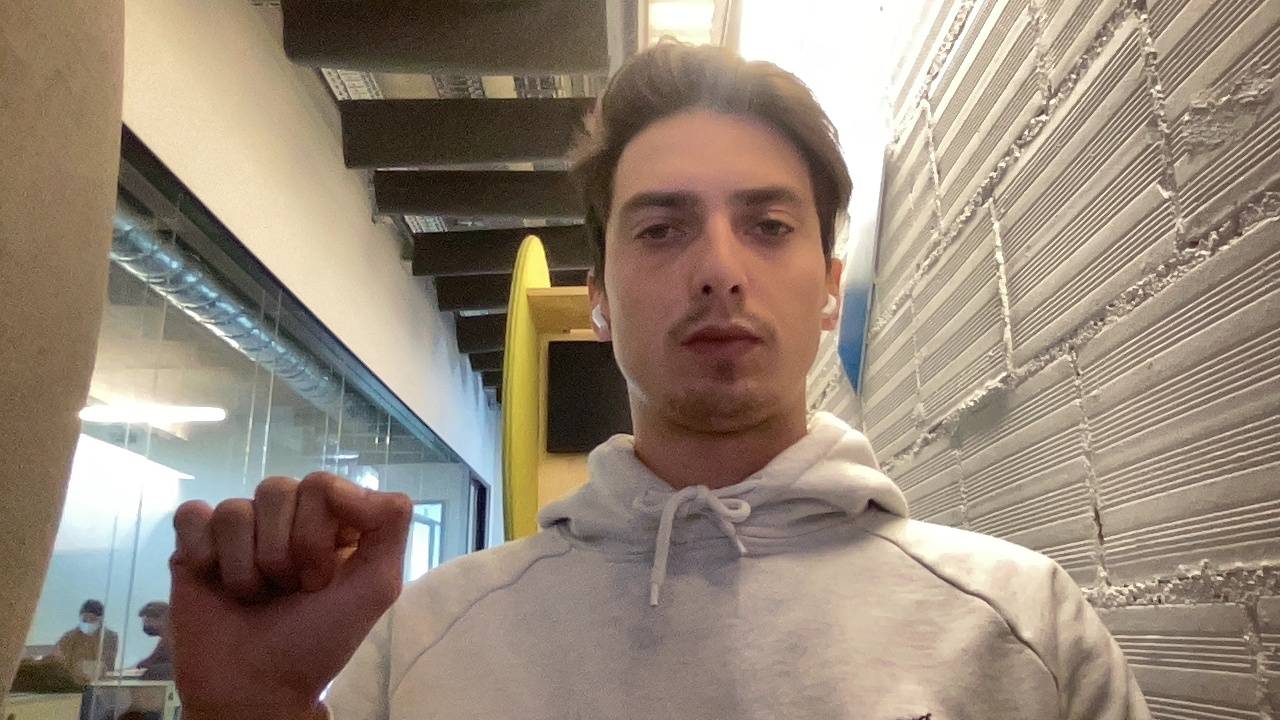yes: (129, 441, 422, 718)
